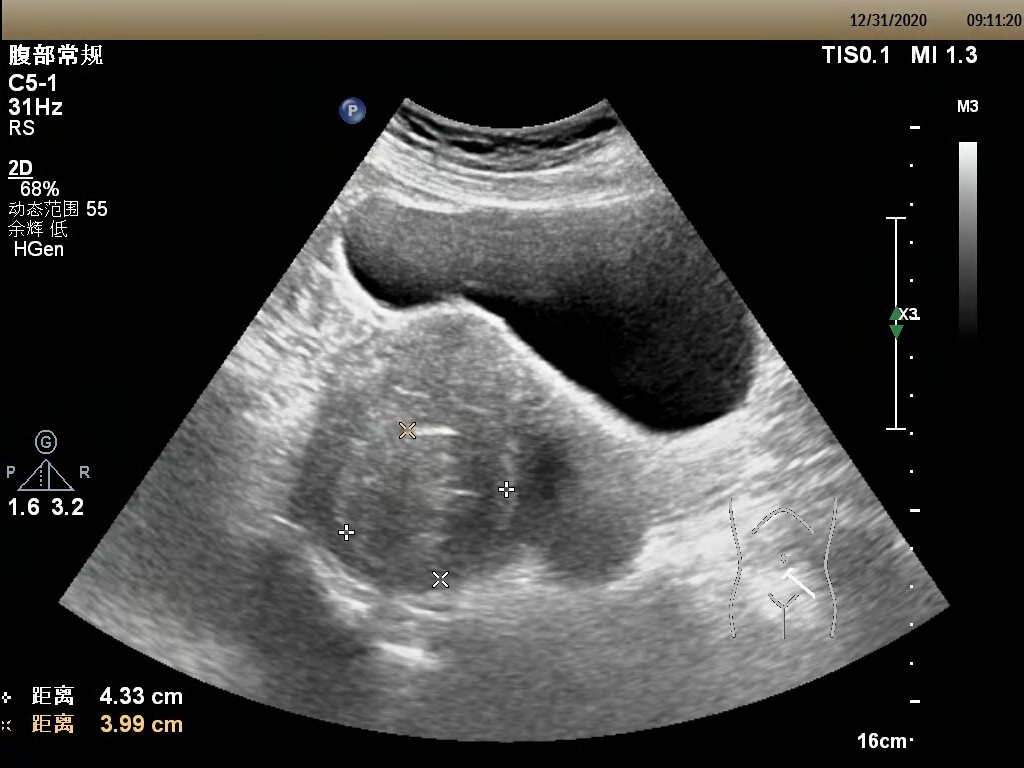肌瘤: (349, 411, 505, 578)
